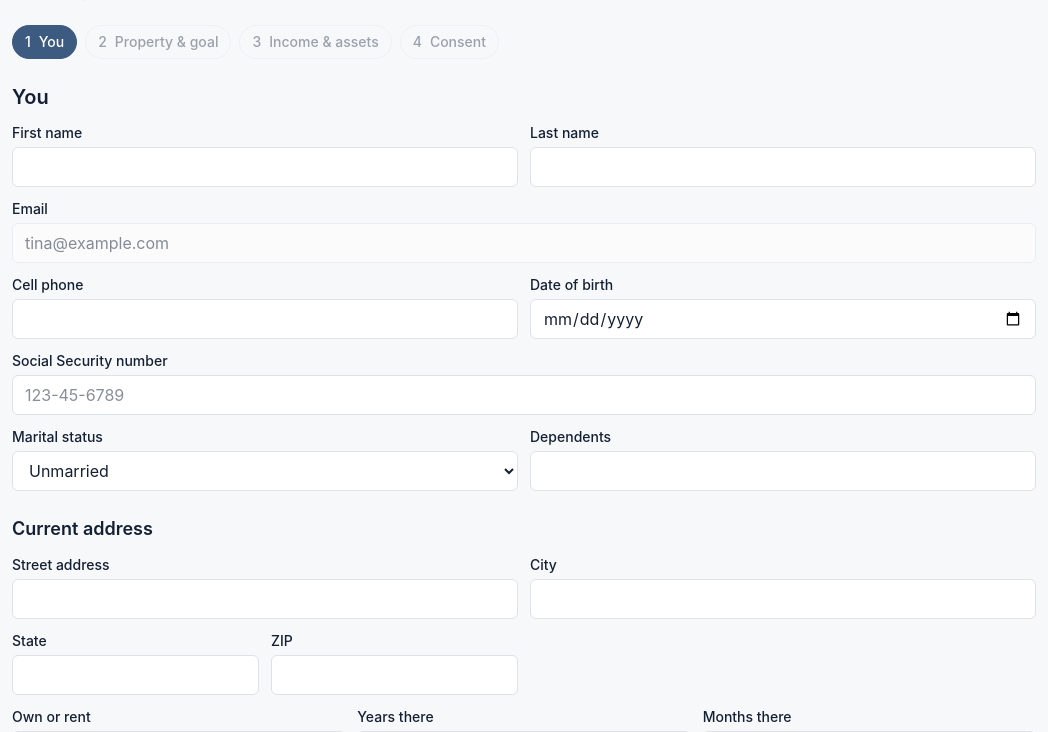
it: ApplyWizard › autosaves 1s after the last change and shows Saved
In the field labelled "First name": (265, 167) [12,147,518,187], type "Tina"
Wait 1000 ms
(page scrolled)
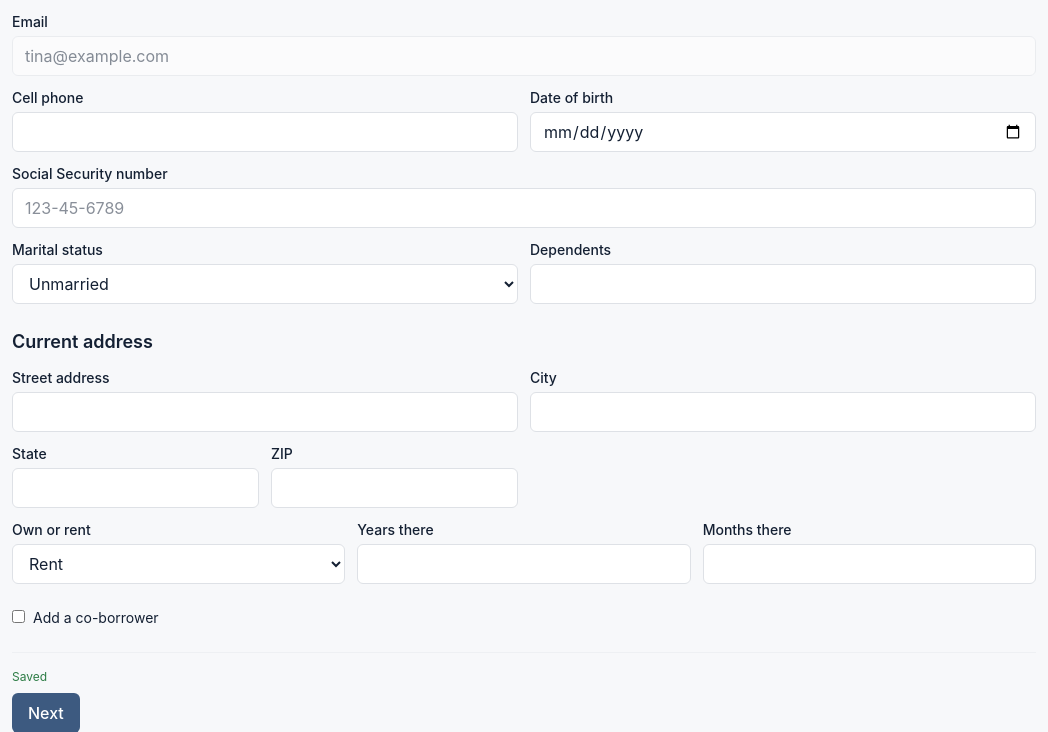
Result: the text "Saved" is shown at [12,669,47,684]
